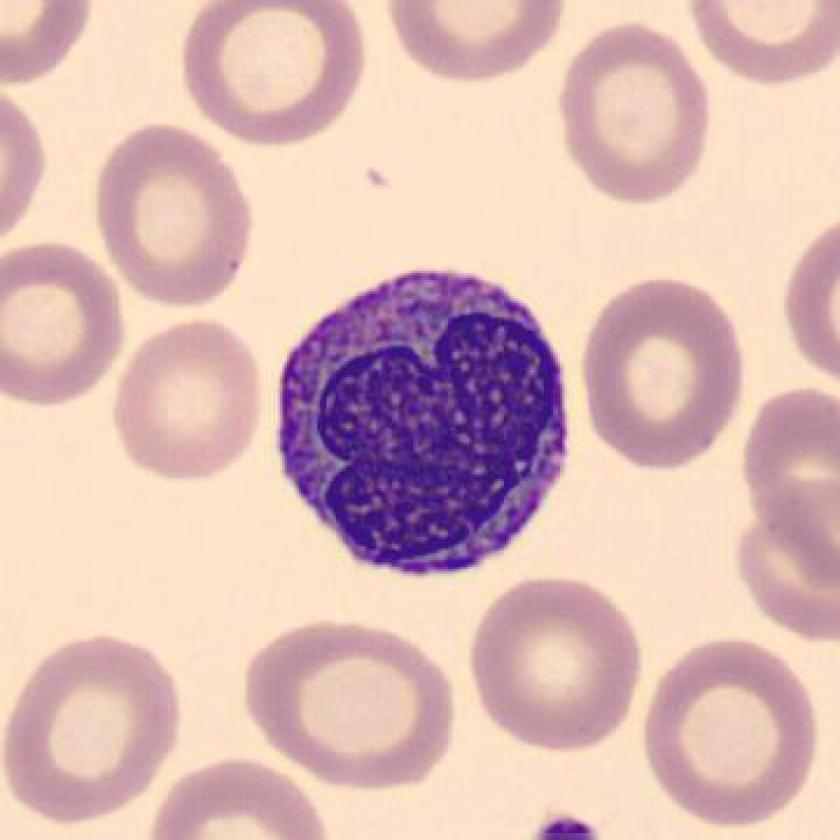monocyte: (262, 242, 587, 593)
